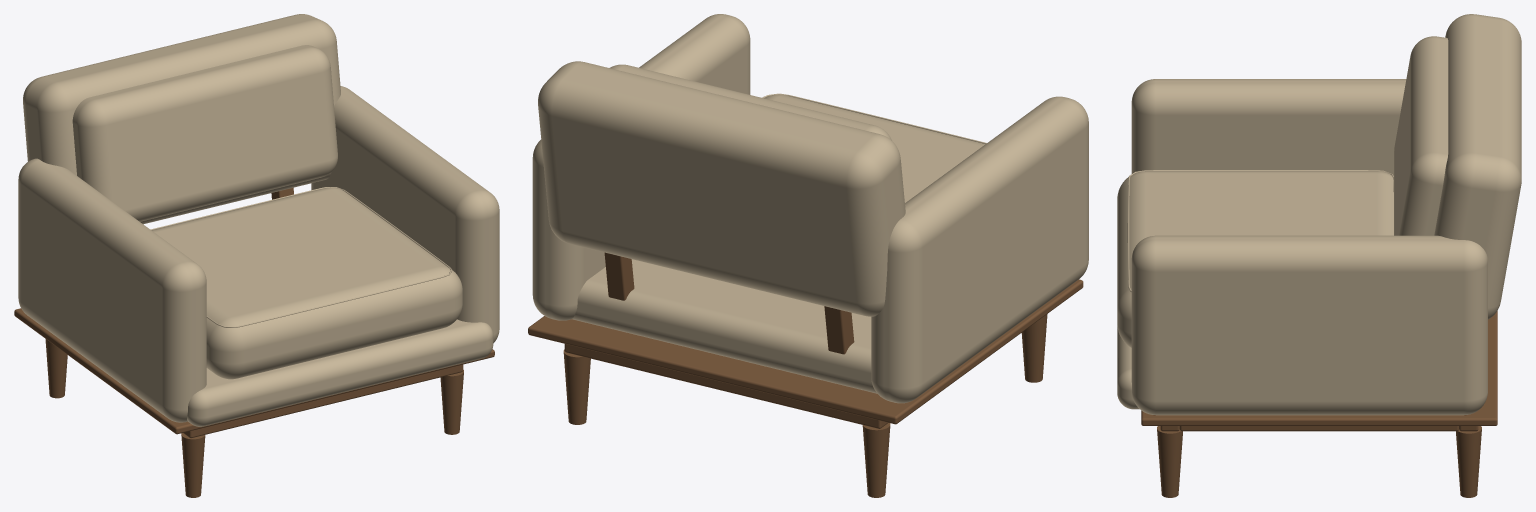
Rendered from solace-lounge-chair.glb.
3 renders of one model, left to right at view 1: azimuth 30°, elevation 25°; view 2: azimuth 150°, elevation 25°; view 3: azimuth 270°, elevation 25°, orthographic. The views are drawn at different scales.
Visible parts, largest first — view 1: U05_Seat cushion 1, U06_Back cushion 1, U02_Left upholstered arm, U03_Right upholstered arm, U04_Reclined back body, U01_Upholstered seat base, F01_Seat platform, F02_Front frame rail, L02_Tapered timber leg, L04_Tapered timber leg, U05_decorative_piping, L01_Tapered timber leg; view 2: U04_Reclined back body, U02_Left upholstered arm, U01_Upholstered seat base, F01_Seat platform, U03_Right upholstered arm, U05_Seat cushion 1, F03_Rear frame rail, U06_Back cushion 1, L01_Tapered timber leg, L03_Tapered timber leg, L02_Tapered timber leg, F06_Left back upright (+1 smaller); view 3: U03_Right upholstered arm, U02_Left upholstered arm, U05_Seat cushion 1, U04_Reclined back body, U06_Back cushion 1, F01_Seat platform, F05_Right frame rail, L03_Tapered timber leg, L04_Tapered timber leg, U01_Upholstered seat base, U05_decorative_piping.
Part boxes in pixels (left/top/right/bottom): U05_Seat cushion 1: left=152, top=187, right=462, bottom=379; U06_Back cushion 1: left=72, top=45, right=337, bottom=221; U02_Left upholstered arm: left=18, top=158, right=206, bottom=422; U03_Right upholstered arm: left=311, top=86, right=499, bottom=343; U04_Reclined back body: left=23, top=14, right=340, bottom=224; U01_Upholstered seat base: left=187, top=319, right=493, bottom=426; F01_Seat platform: left=14, top=308, right=494, bottom=434; F02_Front frame rail: left=183, top=364, right=463, bottom=438; L02_Tapered timber leg: left=181, top=433, right=205, bottom=497; L04_Tapered timber leg: left=440, top=370, right=463, bottom=434; U05_decorative_piping: left=150, top=187, right=452, bottom=327; L01_Tapered timber leg: left=45, top=339, right=67, bottom=398; U04_Reclined back body: left=538, top=61, right=905, bottom=316; U02_Left upholstered arm: left=871, top=96, right=1088, bottom=403; U01_Upholstered seat base: left=572, top=259, right=876, bottom=393; F01_Seat platform: left=528, top=279, right=1083, bottom=424; U03_Right upholstered arm: left=532, top=14, right=750, bottom=320; U05_Seat cushion 1: left=764, top=94, right=985, bottom=202; F03_Rear frame rail: left=564, top=344, right=888, bottom=428; U06_Back cushion 1: left=610, top=64, right=891, bottom=140; L01_Tapered timber leg: left=862, top=423, right=890, bottom=497; L03_Tapered timber leg: left=563, top=349, right=590, bottom=424; L02_Tapered timber leg: left=1021, top=314, right=1047, bottom=382; F06_Left back upright: left=824, top=306, right=854, bottom=354; U03_Right upholstered arm: left=1131, top=235, right=1487, bottom=415; U02_Left upholstered arm: left=1131, top=79, right=1406, bottom=175; U05_Seat cushion 1: left=1117, top=171, right=1393, bottom=347; U04_Reclined back body: left=1434, top=14, right=1521, bottom=319; U06_Back cushion 1: left=1394, top=36, right=1448, bottom=235; F01_Seat platform: left=1141, top=311, right=1497, bottom=425; F05_Right frame rail: left=1179, top=426, right=1459, bottom=431; L03_Tapered timber leg: left=1456, top=426, right=1481, bottom=497; L04_Tapered timber leg: left=1157, top=426, right=1182, bottom=497; U01_Upholstered seat base: left=1117, top=327, right=1139, bottom=409; U05_decorative_piping: left=1127, top=170, right=1393, bottom=292.
Bounding box in the file's own units: 0.88 × 0.78 × 0.84.
